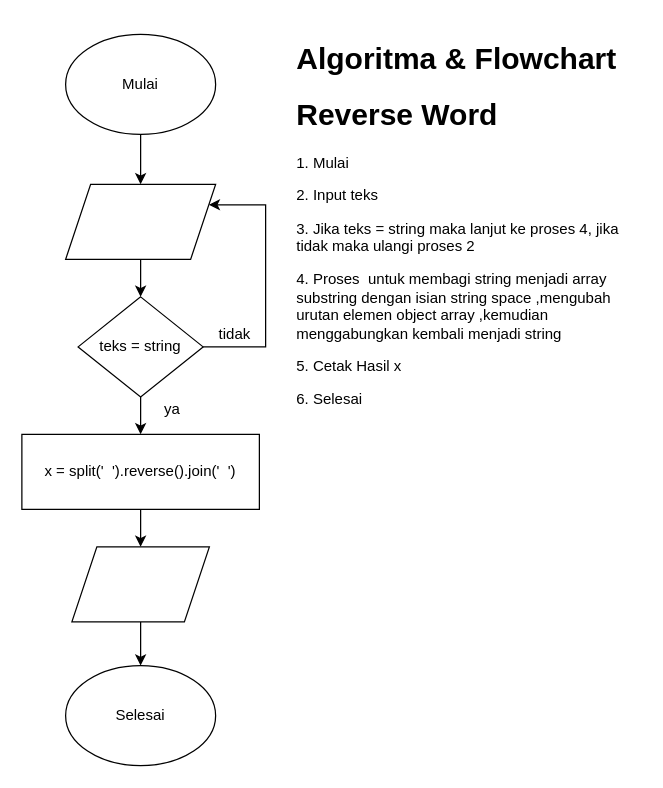
This 663x788 diagram has some shape labels left out. The shapes that lost their labels are listed below. From the top down, each one's centre as x and y in pixels, then its label:
the point at 140,221: Input teks
the point at 140,584: Output Cetak Hasil x
